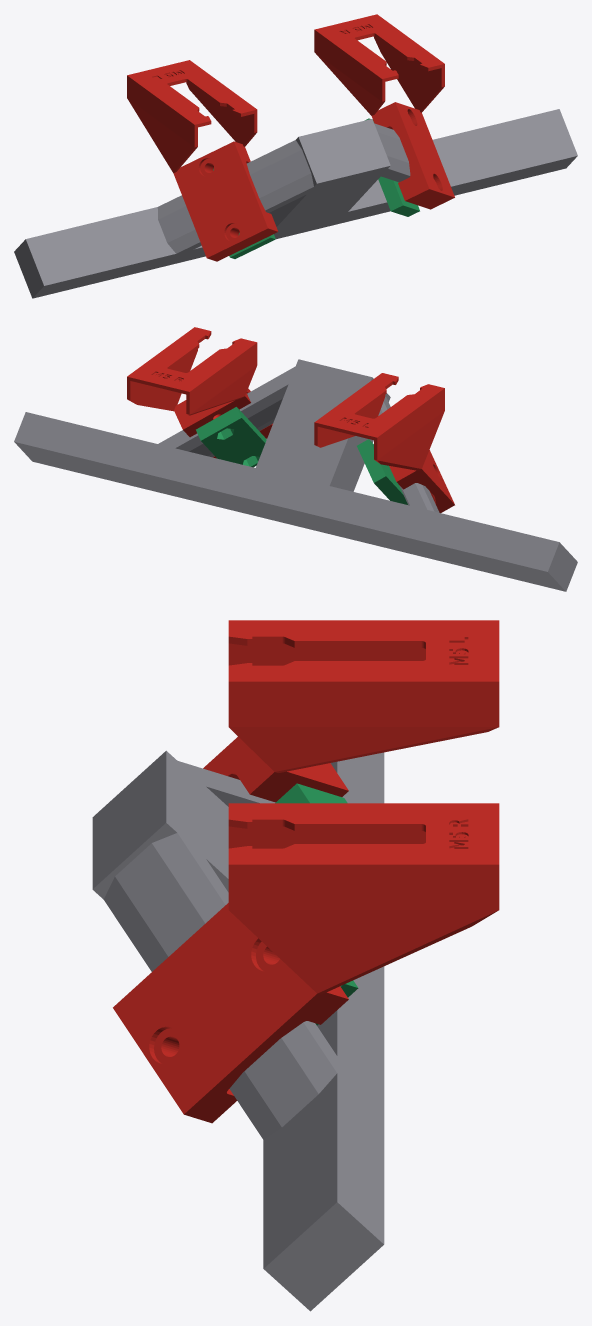
File: assembly_m5.obj
3 views of the same model, one above another, from view 1: azimuth 30°, elevation 25°; view 2: azimuth 150°, elevation 25°; view 3: azimuth 270°, elevation 25° (orthographic). The views are drawn at different scales.
Visible parts, largest first — view 1: hanger_schematic, left_saddle, right_saddle, right_keeper; view 2: hanger_schematic, left_saddle, right_saddle, right_keeper, left_keeper; view 3: right_saddle, hanger_schematic, left_saddle, left_keeper.
Part boxes in pixels (left/top/right/bottom): hanger_schematic: left=14, top=109, right=577, bottom=298; left_saddle: left=127, top=60, right=278, bottom=261; right_saddle: left=314, top=14, right=454, bottom=209; right_keeper: left=365, top=118, right=419, bottom=216; hanger_schematic: left=14, top=359, right=577, bottom=591; left_saddle: left=314, top=373, right=454, bottom=512; right_saddle: left=127, top=327, right=272, bottom=458; right_keeper: left=196, top=407, right=266, bottom=467; left_keeper: left=357, top=439, right=407, bottom=504; right_saddle: left=113, top=803, right=499, bottom=1123; hanger_schematic: left=92, top=750, right=384, bottom=1311; left_saddle: left=203, top=620, right=499, bottom=802; left_keeper: left=275, top=783, right=347, bottom=803.
Bounding box in the file's own units: 260 × 71.77 × 85.83.
